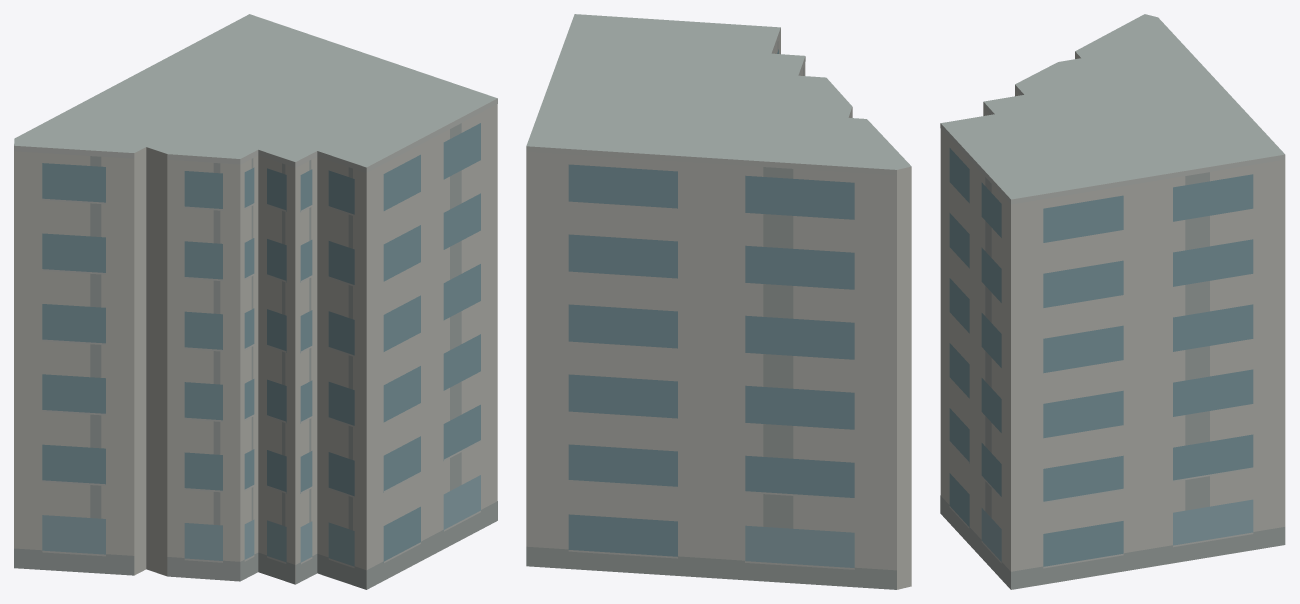
Rendered from survey-upis-33042917.glb.
The picture shows the model from 3 angles, left to right: view 1: azimuth 30°, elevation 25°; view 2: azimuth 150°, elevation 25°; view 3: azimuth 270°, elevation 25°; orthographic projection. The views are drawn at different scales.
Parts seen in each view (by area): view 1: survey-upis-33042917.tmp; view 2: survey-upis-33042917.tmp; view 3: survey-upis-33042917.tmp.
Part boxes in pixels (box(x1,y1,x2,y2)): survey-upis-33042917.tmp: box(14, 14, 497, 589); survey-upis-33042917.tmp: box(526, 14, 911, 589); survey-upis-33042917.tmp: box(940, 14, 1285, 589).
Size of the model in its own units: 18.66 by 18.3 by 14.66.
